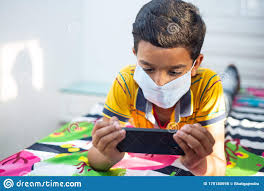with-mask: (122, 1, 206, 112)
